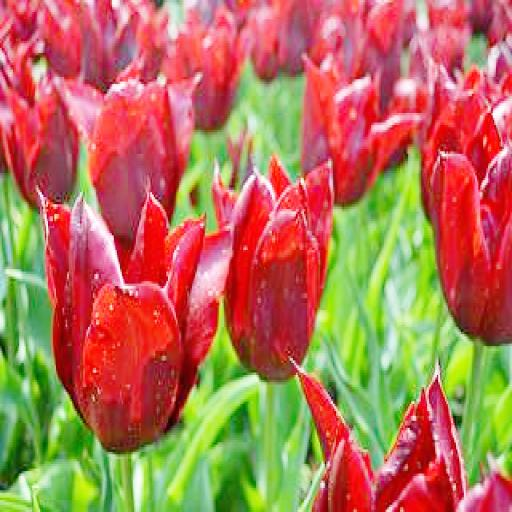tulip: (43, 180, 235, 450), (212, 152, 338, 382), (74, 65, 198, 231), (299, 46, 419, 194), (437, 144, 512, 346)
